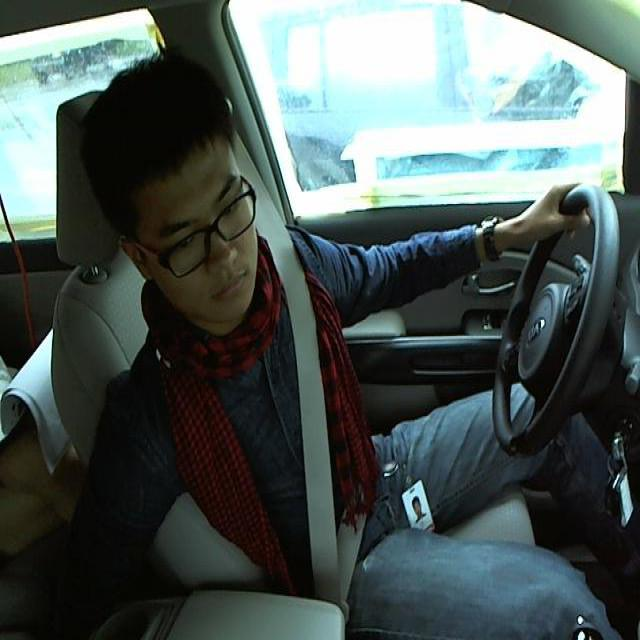seatbelt: (273, 258, 385, 598)
